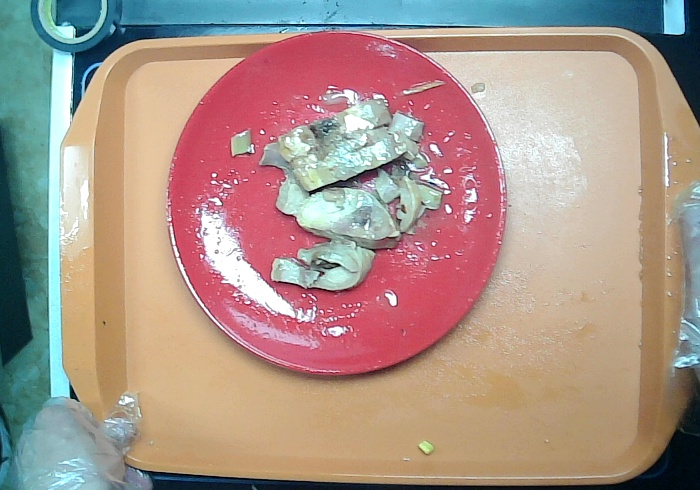HZYJPL-Hong_Se_Yuan_Pan: (165, 20, 517, 378)
